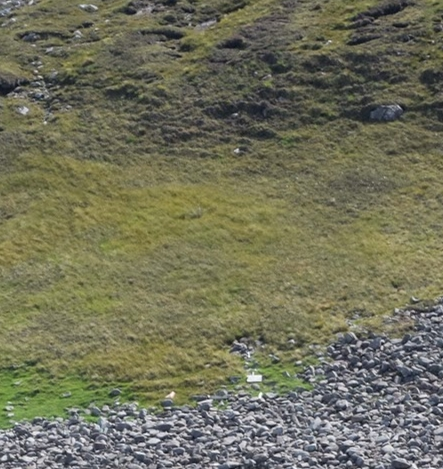white_in_green: (220, 346, 288, 404)
